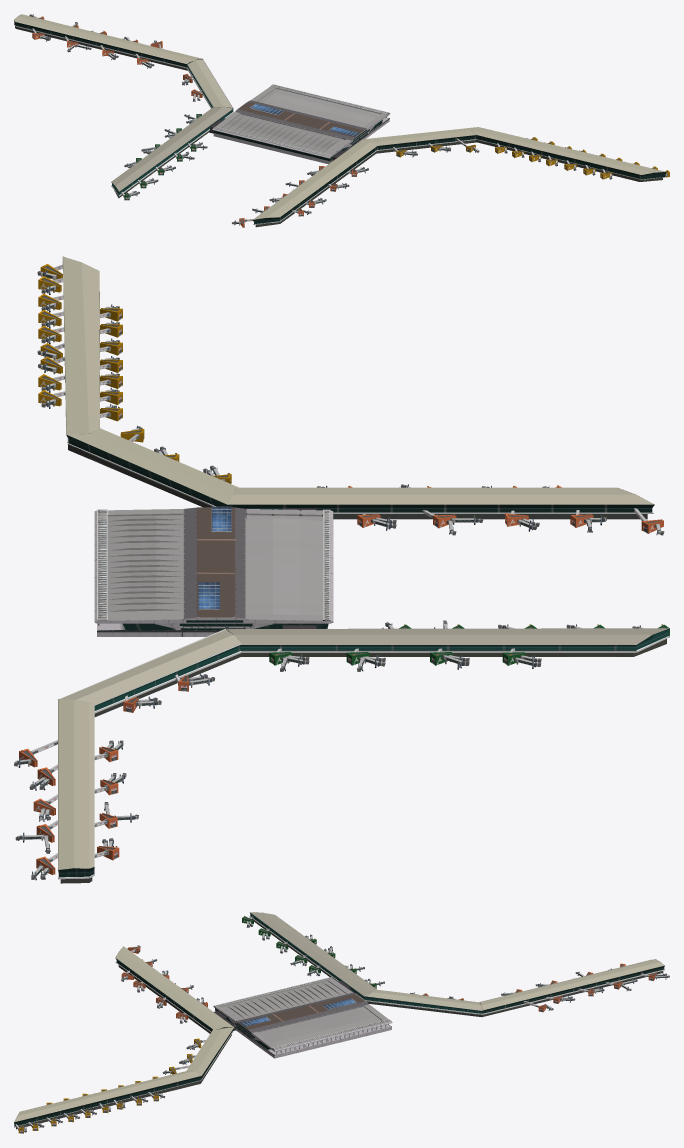
The model's file is Delhi T3.glb.
3 renders of one model, top to bottom at view 1: azimuth 30°, elevation 25°; view 2: azimuth 150°, elevation 25°; view 3: azimuth 270°, elevation 25°, orthographic. The views are drawn at different scales.
Parts seen in each view (by area): view 1: Cube.620, Cube.474, Cube.003, Cube.310, Cube.001, Cube.434, Cube.002; view 2: Cube.620, Cube.310, Cube.001, Cube.003, Cube.474, Cube.434, Cube.002; view 3: Cube.620, Cube.474, Cube.003, Cube.310, Cube.001, Cube.002, Cube.434.
Part boxes in pixels (<box>): Cube.620: <box>209,84,390,164</box>; Cube.474: <box>471,127,666,181</box>; Cube.003: <box>14,14,202,70</box>; Cube.310: <box>252,139,377,227</box>; Cube.001: <box>111,106,233,198</box>; Cube.434: <box>362,127,477,153</box>; Cube.002: <box>187,59,233,108</box>; Cube.620: <box>94,506,333,636</box>; Cube.310: <box>227,487,654,519</box>; Cube.001: <box>227,628,669,656</box>; Cube.003: <box>58,699,94,883</box>; Cube.474: <box>62,256,99,442</box>; Cube.434: <box>66,428,238,507</box>; Cube.002: <box>60,628,241,716</box>; Cube.620: <box>213,977,392,1058</box>; Cube.474: <box>14,1070,201,1129</box>; Cube.003: <box>479,959,664,1016</box>; Cube.310: <box>115,946,233,1033</box>; Cube.001: <box>249,912,376,1000</box>; Cube.002: <box>365,989,482,1016</box>; Cube.434: <box>186,1027,234,1083</box>.
Bounding box in the file's own units: 1162 × 27.97 × 1502.
58 materials, 44 textured.
